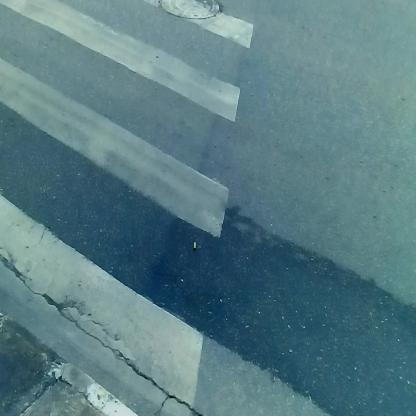crosswalk: (1, 13, 264, 360)
